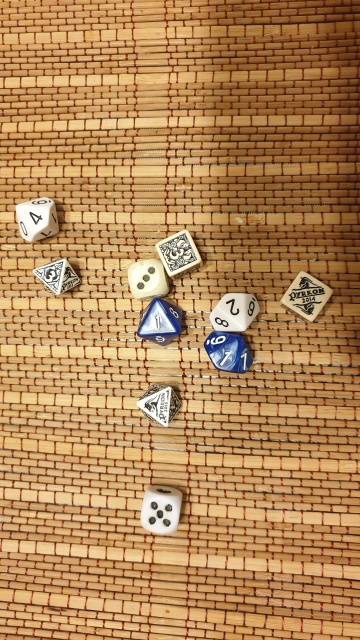d10-1: (130, 296, 191, 352), (203, 329, 260, 377)
d10-2: (205, 287, 262, 337)
d10-4: (11, 192, 64, 246)
d6-3: (127, 257, 168, 300)
d6-5: (137, 482, 181, 536)
d6p-1: (278, 267, 336, 326)
d6p-3: (155, 226, 207, 280)
d8p-1: (134, 377, 185, 434)
d8p-3: (30, 257, 81, 298)
